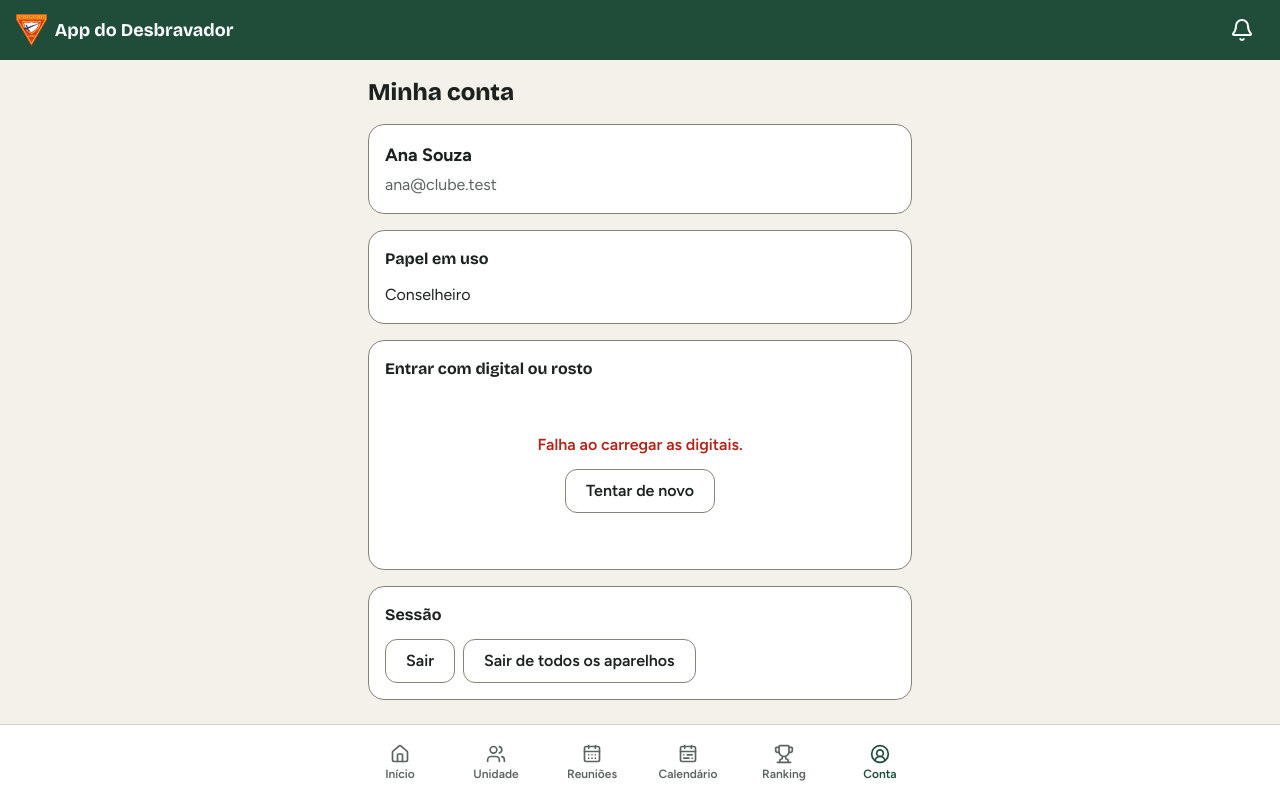
Test: Minha conta: entrar com digital ou rosto › erro: mostra a mensagem da API e "Tentar de novo" busca outra vez
The width and height of the screenshot is (1280, 800).
Expected: the text "Falha ao carregar as digitais." is shown, [537, 433, 743, 457]
Step 1. Click the button "Tentar de novo" → (640, 491), box [565, 469, 715, 513]
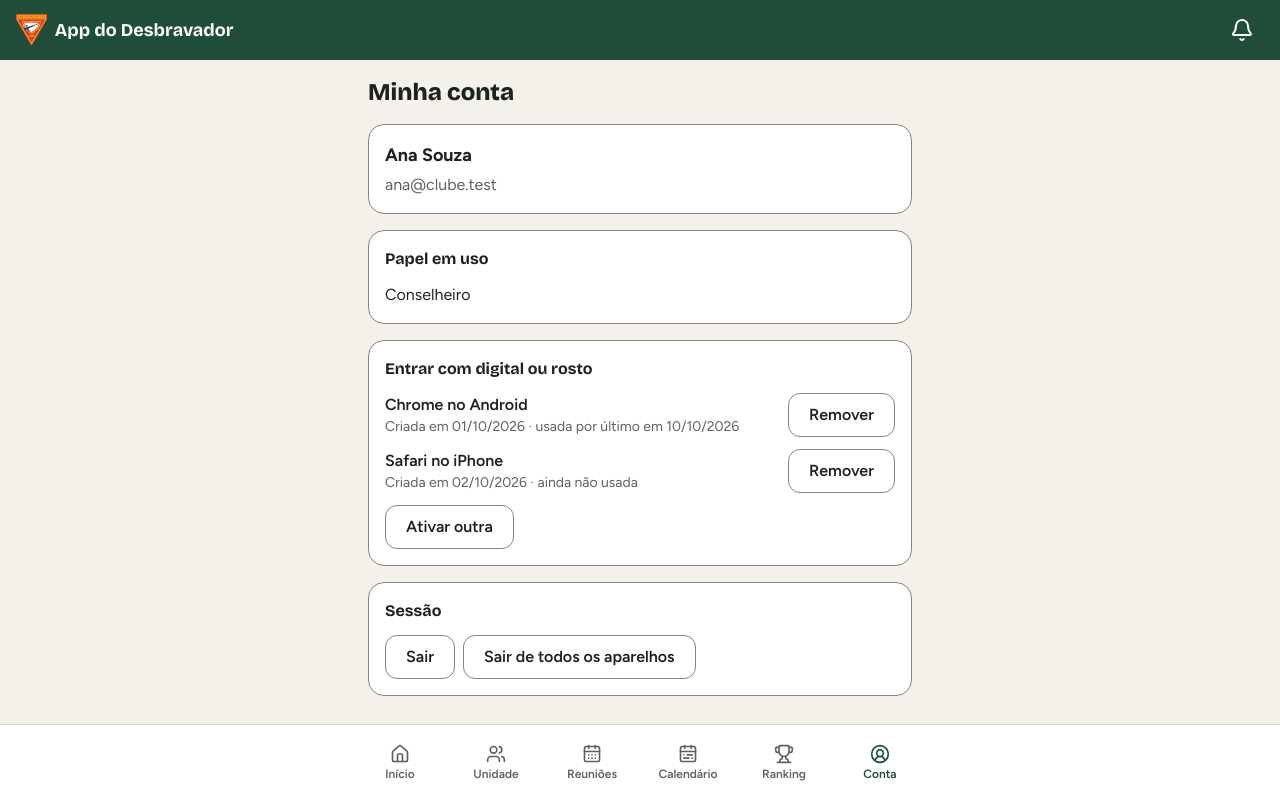
Expected: the text "Chrome no Android" is shown, [385, 395, 528, 414]
